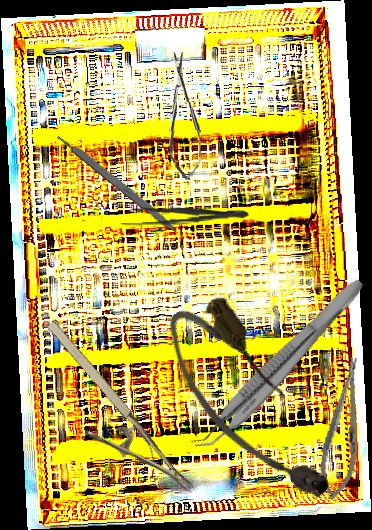Cannula: (151, 285, 345, 525)
Dressing Forceps: (119, 203, 250, 229)
Micro Scissor: (165, 51, 203, 181)
Needle Holder: (18, 316, 196, 522), (315, 355, 372, 502)
Scalpel Handle: (55, 131, 181, 235)
Tissue Forceps: (188, 267, 368, 461)
